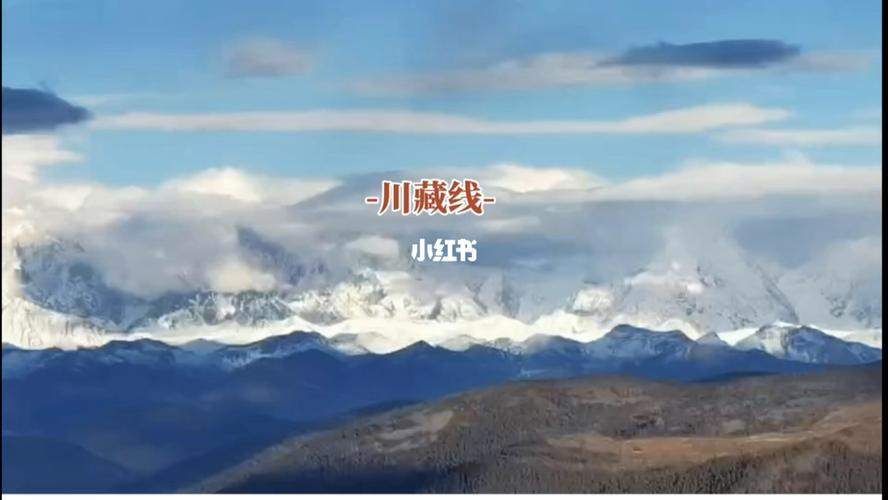sky_cloud: (2, 145, 868, 313), (6, 60, 888, 188)
